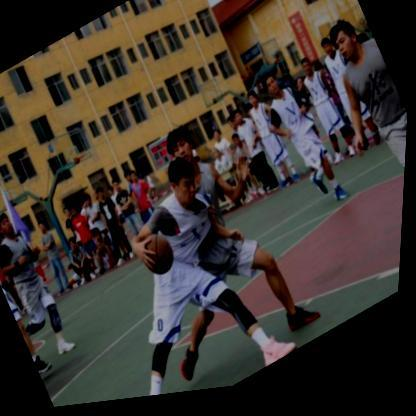basketball: (140, 231, 184, 285)
